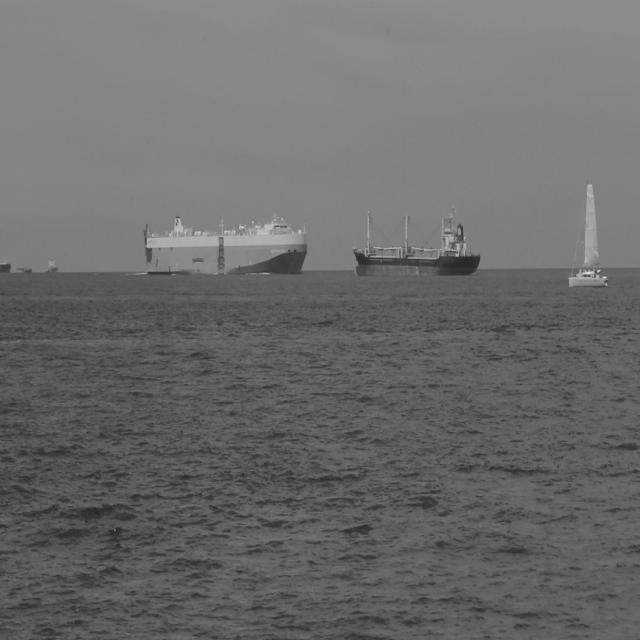ship: (140, 210, 308, 276), (350, 200, 482, 278), (566, 178, 610, 288), (45, 253, 59, 275), (14, 264, 34, 276), (0, 256, 12, 274)
